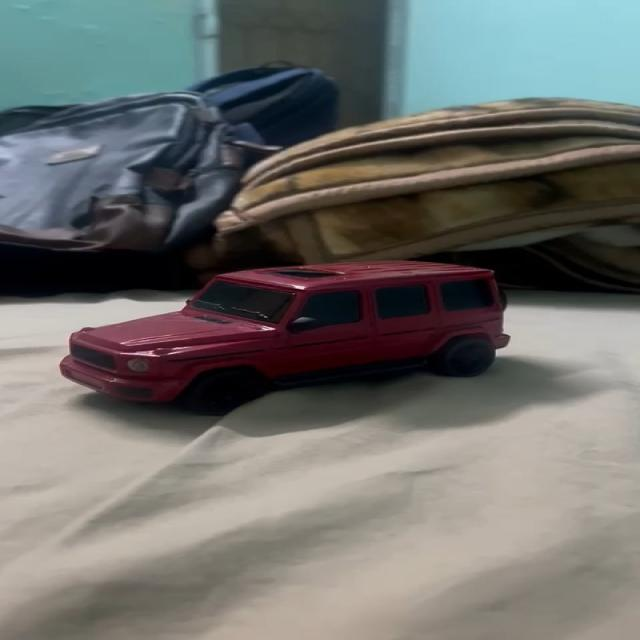light_vehicle: (54, 257, 511, 408)
